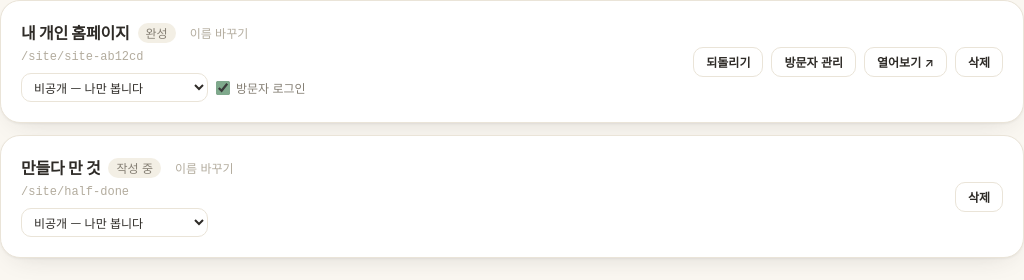
Test: [P4-4] ProjectList › 확인하면 삭제 API를 부르고 목록에서 사라진다
The width and height of the screenshot is (1024, 280).
Click the button "삭제" next to "열어보기 ↗" at (979, 62), box x1=955 y1=46 x2=1003 y2=76
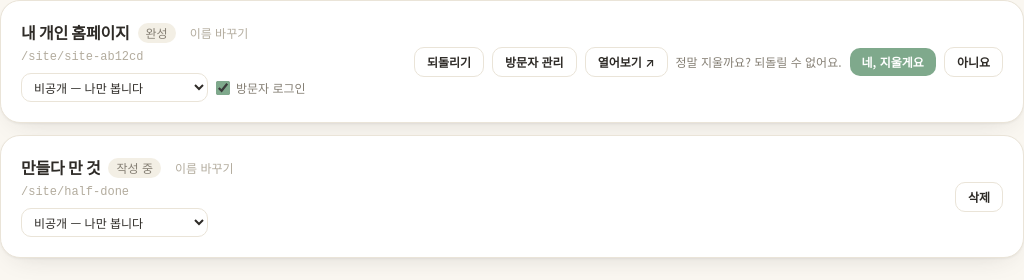
Click the button "네, 지울게요" at (893, 62), box x1=850 y1=48 x2=936 y2=76
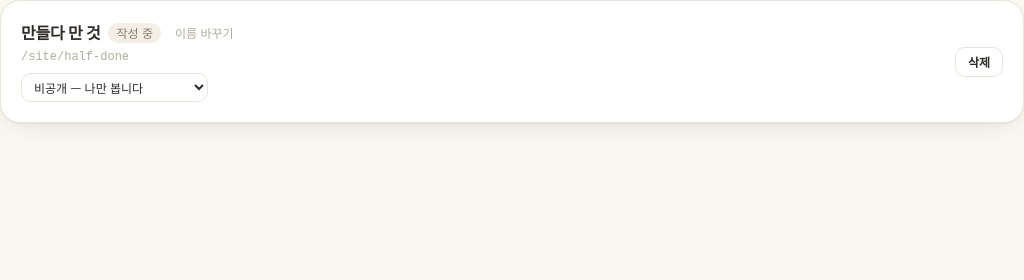
Expected: the heading "만들다 만 것" is shown, x1=21 y1=21 x2=100 y2=45
Expected: the heading "내 개인 홈페이지" is gone
